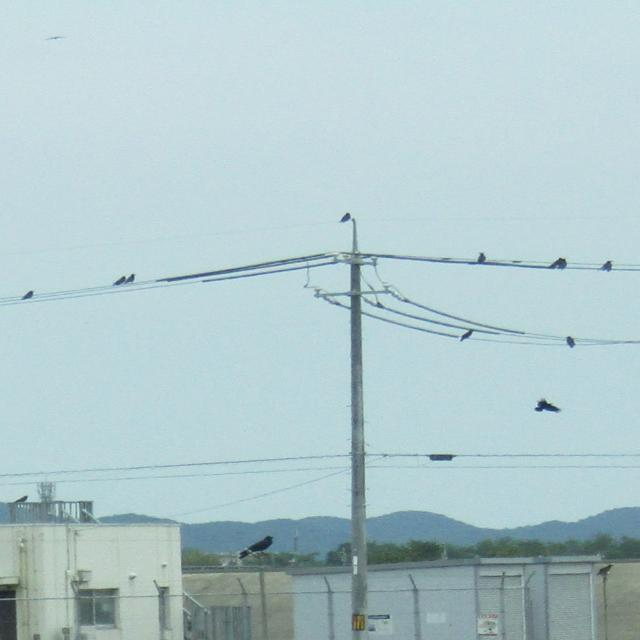pole: (300, 201, 437, 640)
